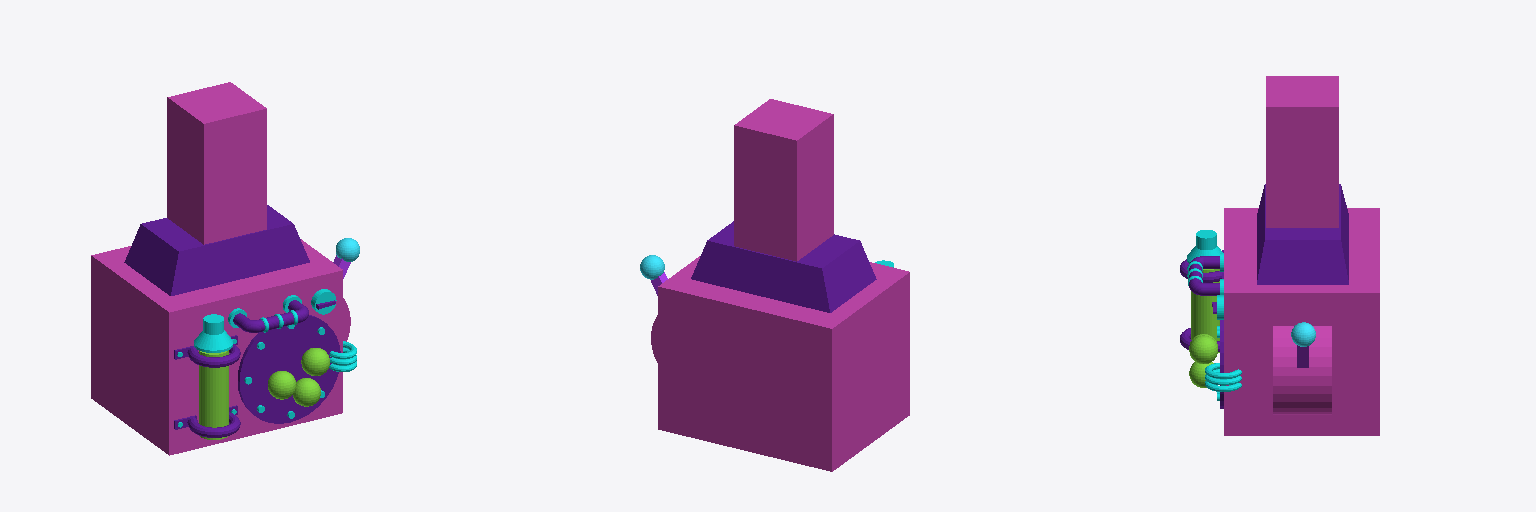
3 renders of one model, left to right at view 1: azimuth 30°, elevation 25°; view 2: azimuth 150°, elevation 25°; view 3: azimuth 270°, elevation 25°, orthographic.
Visible parts, largest first — view 1: 立方体.001; view 2: 立方体.001; view 3: 立方体.001.
Part boxes in pixels (left/top/right/bottom): 立方体.001: left=91, top=82, right=359, bottom=455; 立方体.001: left=640, top=99, right=909, bottom=471; 立方体.001: left=1180, top=76, right=1379, bottom=435.
Size of the model in its own units: 21.26 by 26.86 by 16.16.
Materials: 1 (1 with a texture image).